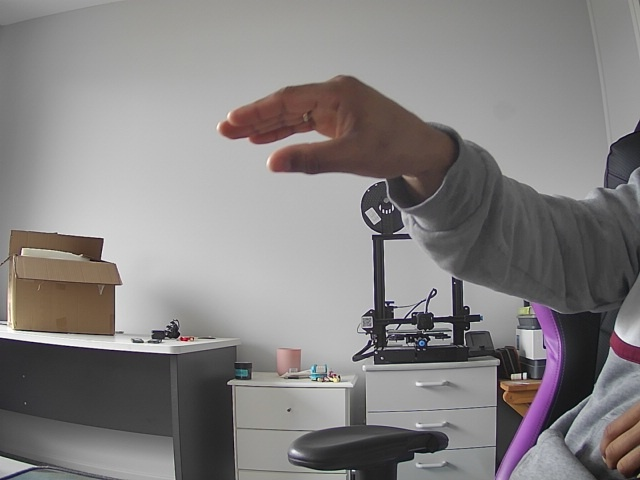No: (196, 62, 455, 213)
